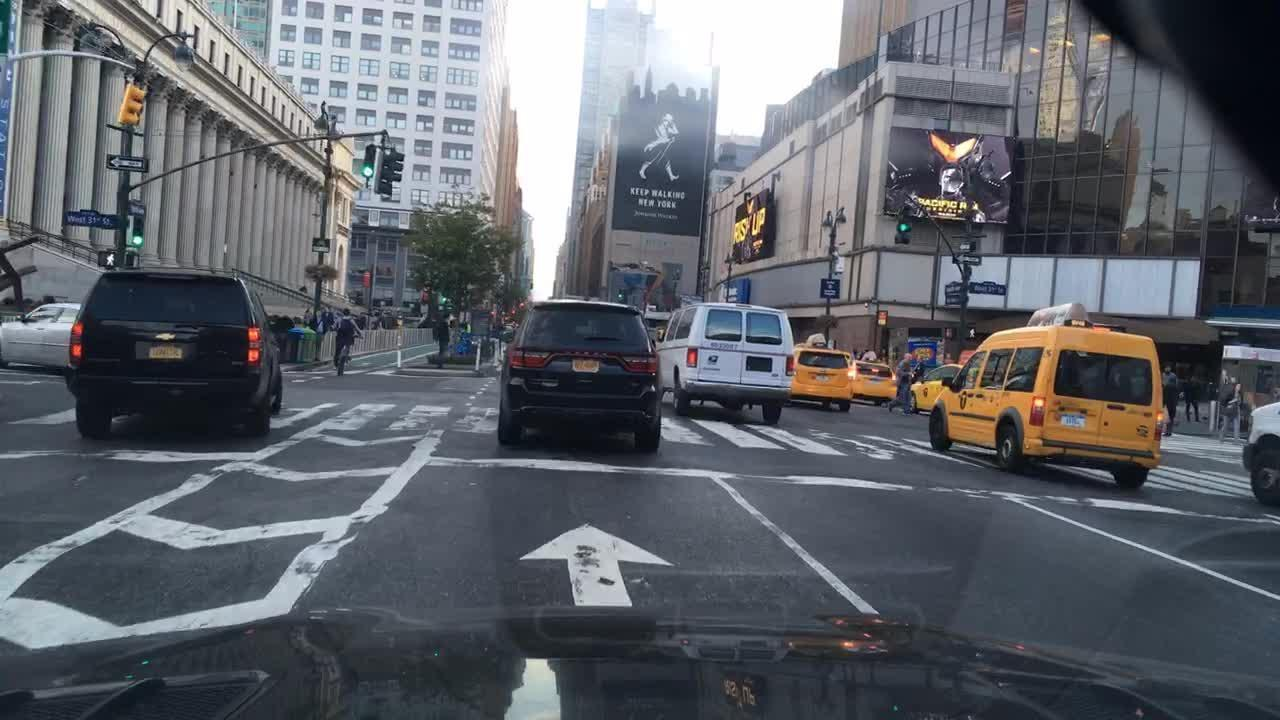chevrolet: (152, 330, 179, 347)
dodge: (558, 344, 615, 359)
